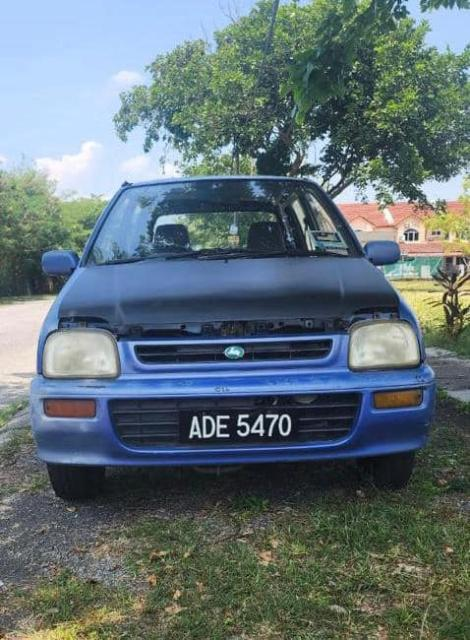License_Plate: (175, 408, 302, 447)
car: (29, 170, 437, 496)
